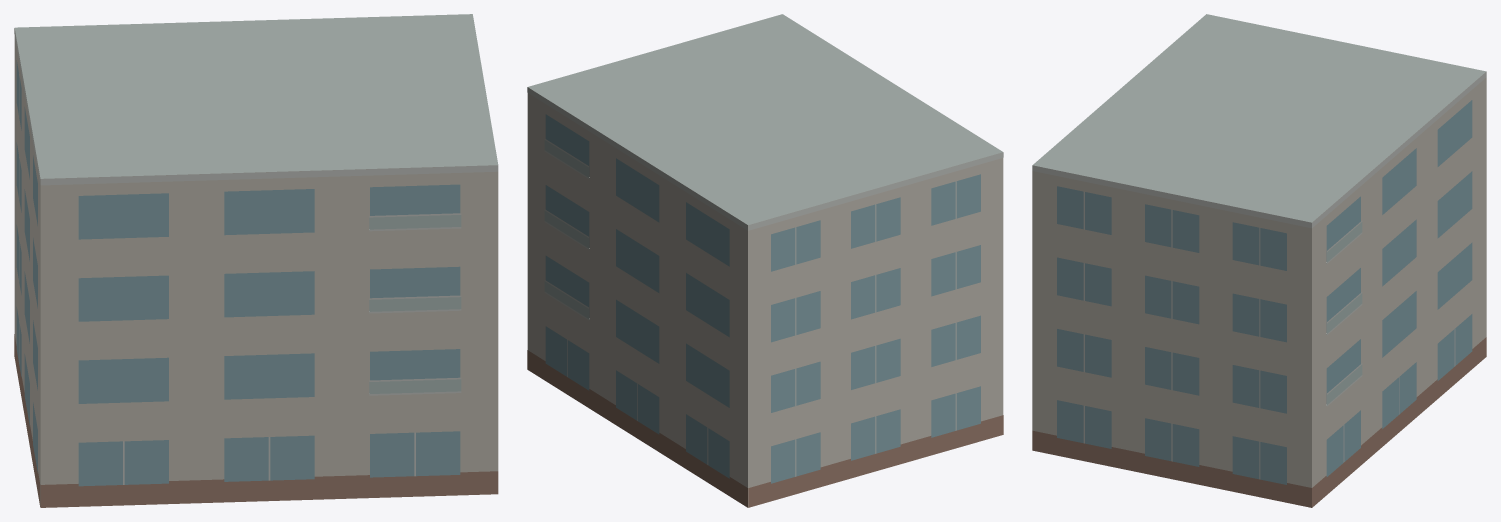
The model's file is survey-upis-32480936.glb.
3 renders of one model, left to right at view 1: azimuth 30°, elevation 25°; view 2: azimuth 150°, elevation 25°; view 3: azimuth 270°, elevation 25°, orthographic. The views are drawn at different scales.
Visible parts, largest first — view 1: survey-upis-32480936.tmp; view 2: survey-upis-32480936.tmp; view 3: survey-upis-32480936.tmp.
Part boxes in pixels (left/top/right/bottom): survey-upis-32480936.tmp: left=14, top=14, right=498, bottom=507; survey-upis-32480936.tmp: left=527, top=14, right=1003, bottom=507; survey-upis-32480936.tmp: left=1032, top=14, right=1486, bottom=507.
Bounding box in the file's own units: 19.15 × 12.2 × 17.62.
